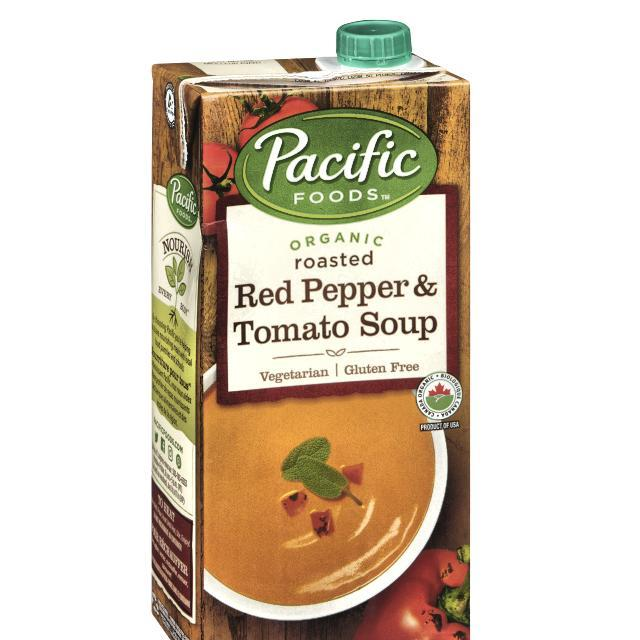cardboard: (150, 55, 472, 640)
